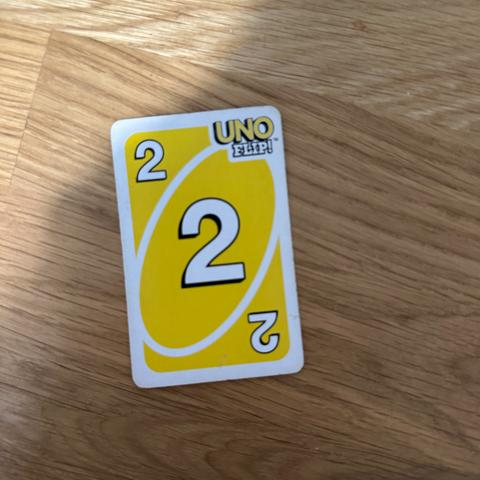1_yellow: (173, 192, 251, 291), (125, 137, 177, 185), (245, 301, 288, 359)
